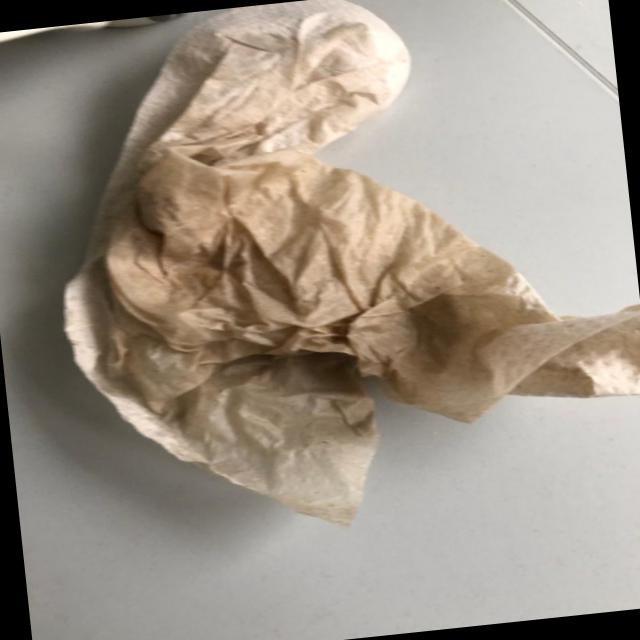organic waste: (27, 0, 640, 560)
